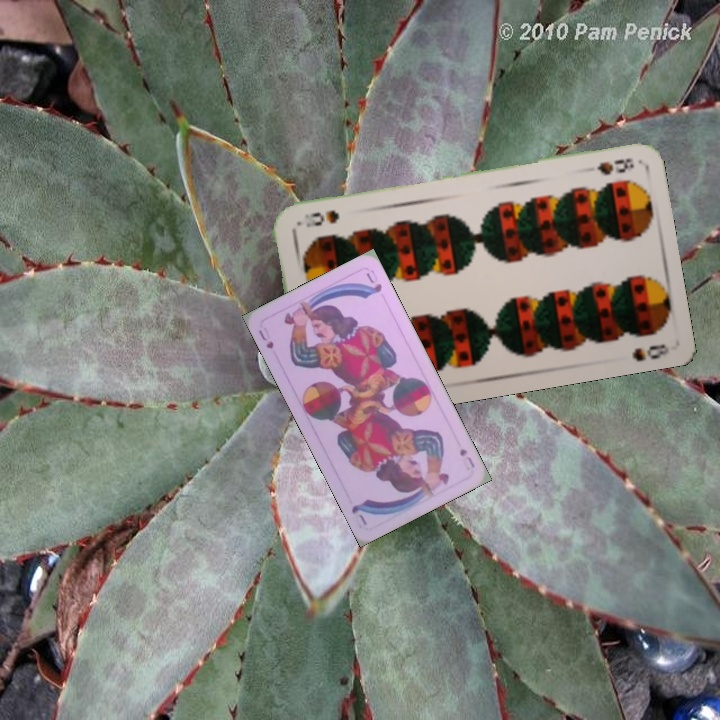S8: (592, 154, 636, 178)
SU: (255, 323, 276, 351), (455, 444, 477, 470)
